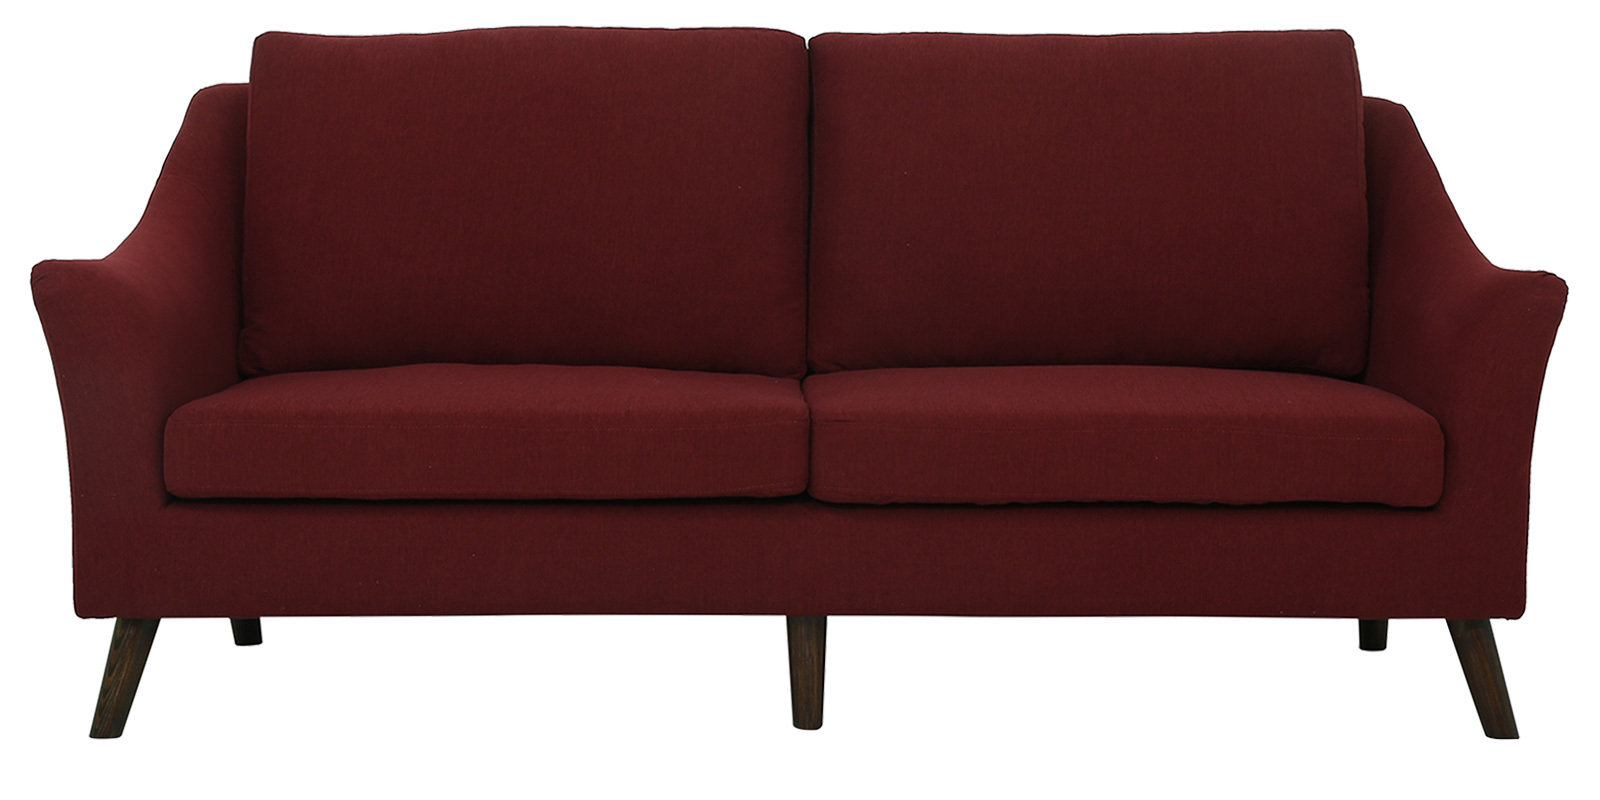Juan Three Seater Sofa in Garnet Red Colour by CasaCraft: (21, 5, 1585, 763)
